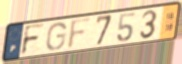3: (139, 9, 159, 41)
5: (116, 11, 136, 43)
7: (95, 14, 114, 47)
F: (66, 16, 95, 51), (20, 22, 47, 57)
G: (45, 21, 68, 52)
